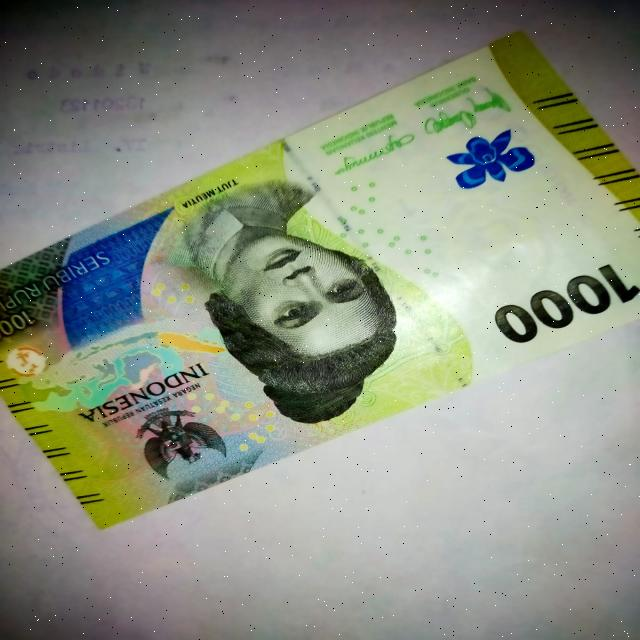1K: (0, 13, 640, 533)
